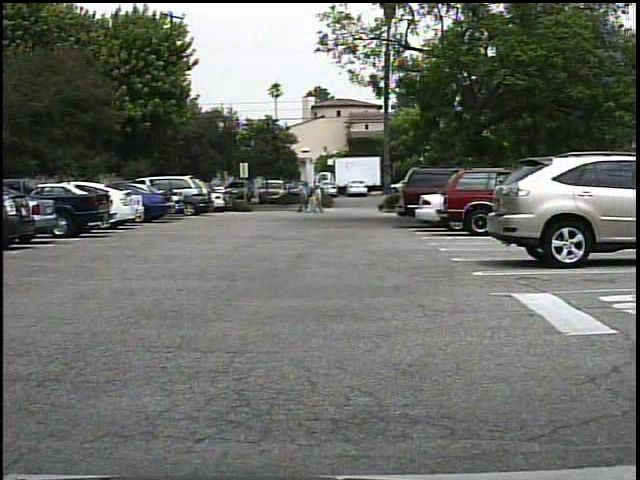person: (311, 185, 329, 216), (295, 185, 311, 215), (307, 186, 320, 217)
